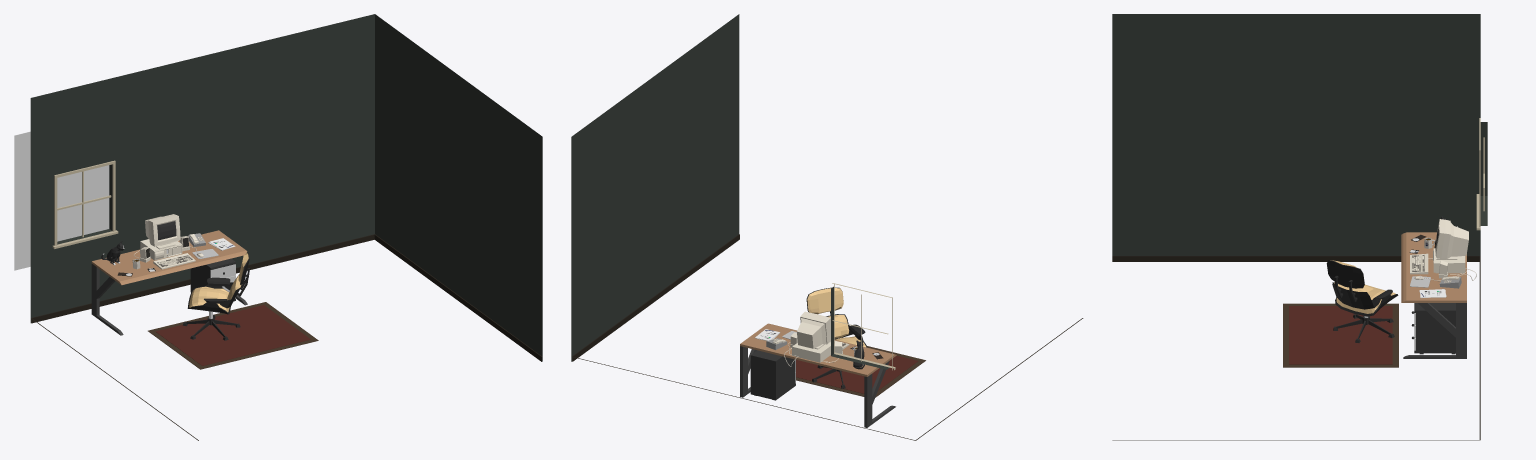
The model's file is office.glb.
3 renders of one model, left to right at view 1: azimuth 30°, elevation 25°; view 2: azimuth 150°, elevation 25°; view 3: azimuth 270°, elevation 25°, orthographic. The views are drawn at different scales.
Parts seen in each view (by area): view 1: Room_Interior, Room_Sky, Office_desk_ComputerDesk_0, Cube.000_ComputerDesk_0, Drawers_ComputerDesk_0, Computer_monitor.001_ComputerDesk_0; view 2: Room_Interior, Office_desk_ComputerDesk_0, Drawers_ComputerDesk_0, Cube.000_ComputerDesk_0, Computer_monitor.001_ComputerDesk_0, Computer_case_ComputerDesk_0; view 3: Room_Interior, Office_desk_ComputerDesk_0, Cube.000_ComputerDesk_0, Drawers_ComputerDesk_0, Computer_monitor.001_ComputerDesk_0, Computer_case_ComputerDesk_0.
Part boxes in pixels (x1,y1,x2,y2): Room_Interior: (30,14,542,440); Room_Sky: (14,131,109,270); Office_desk_ComputerDesk_0: (91,230,247,335); Cube.000_ComputerDesk_0: (182,252,249,340); Drawers_ComputerDesk_0: (190,258,235,301); Computer_monitor.001_ComputerDesk_0: (145,214,180,249); Room_Interior: (571,14,1083,440); Office_desk_ComputerDesk_0: (740,323,896,427); Drawers_ComputerDesk_0: (750,350,795,400); Cube.000_ComputerDesk_0: (806,287,867,388); Computer_monitor.001_ComputerDesk_0: (797,311,830,349); Computer_case_ComputerDesk_0: (792,342,830,362); Room_Interior: (1112,14,1487,440); Office_desk_ComputerDesk_0: (1401,232,1466,358); Cube.000_ComputerDesk_0: (1326,260,1398,342); Drawers_ComputerDesk_0: (1411,303,1455,354); Computer_monitor.001_ComputerDesk_0: (1435,219,1468,259); Computer_case_ComputerDesk_0: (1433,248,1465,273).
Bounding box in the file's own units: 32 × 20 × 30.
Materials: 15 (4 with a texture image).
